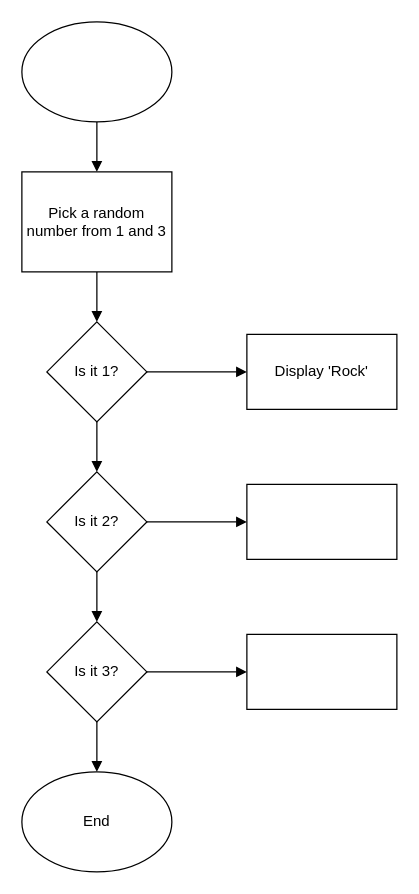
This 419x894 diagram has some shape labels left out. The centre of each missing label's shape, as x and y in pixels:
Display 'Paper': point (321, 521)
Display 'Scissors': point (321, 671)
Start: point (96, 71)
